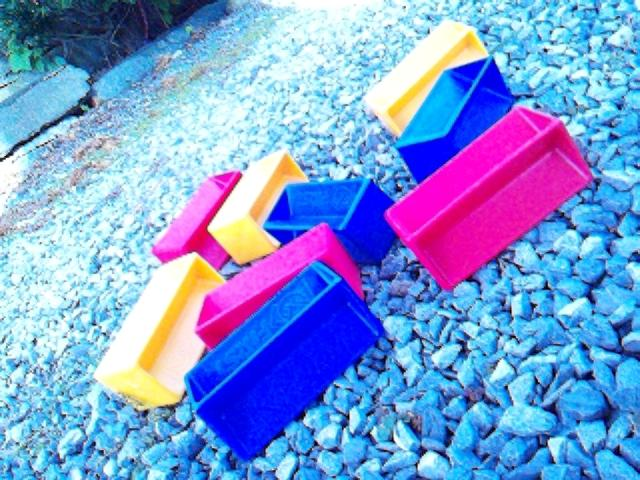blue: (183, 260, 386, 461), (393, 55, 517, 185), (262, 177, 398, 266)
red: (383, 104, 595, 292), (194, 221, 366, 351), (151, 169, 244, 271)
yellow: (93, 251, 227, 411), (363, 19, 491, 138), (207, 149, 310, 266)
